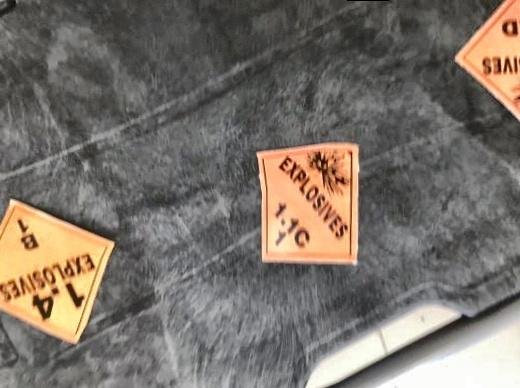explosive: (1, 196, 116, 344), (255, 142, 360, 267), (443, 3, 520, 121)
